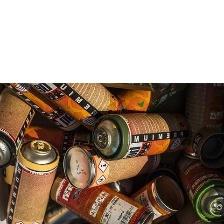aerosol_cans: (23, 70, 126, 134), (47, 164, 155, 224), (57, 135, 167, 193), (88, 106, 195, 164), (174, 55, 224, 163), (2, 136, 61, 224), (170, 146, 224, 224), (0, 83, 42, 171)
